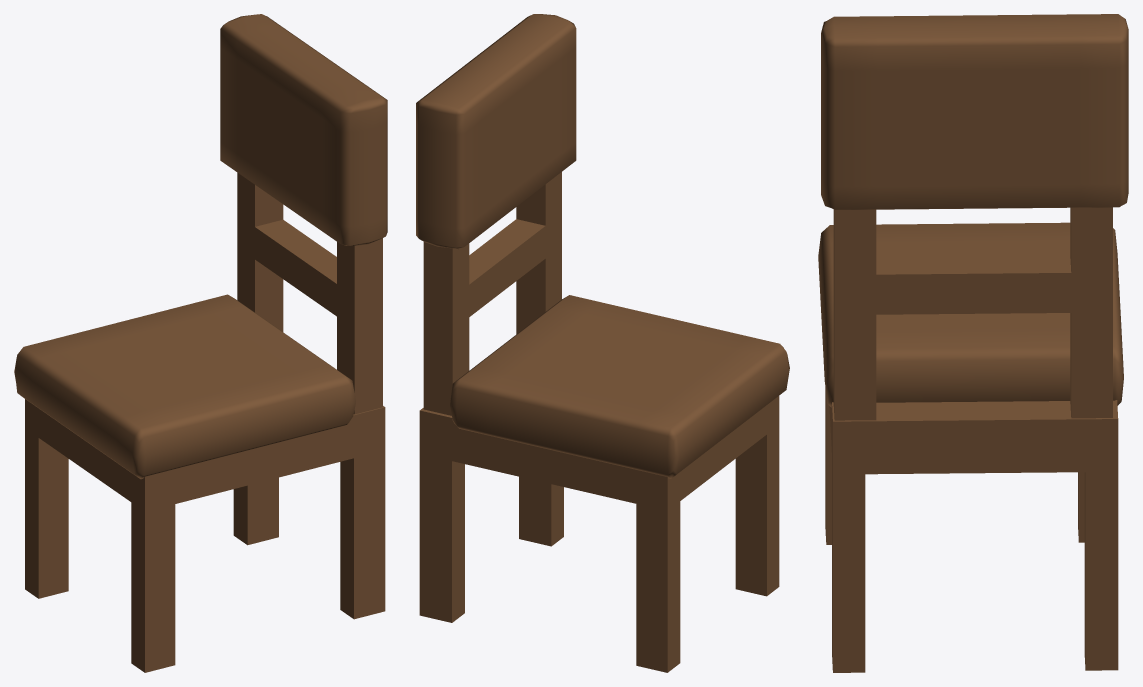
The model's file is chair_1.fbx.
3 views of the same model, side by side, from view 1: azimuth 30°, elevation 25°; view 2: azimuth 150°, elevation 25°; view 3: azimuth 270°, elevation 25° (orthographic). The views are drawn at different scales.
Parts seen in each view (by area): view 1: chair_9; view 2: chair_9; view 3: chair_9.
Boxes of the visible parts, <box> form: chair_9: <box>14,14,387,672</box>; chair_9: <box>416,14,789,672</box>; chair_9: <box>818,14,1128,672</box>.
Size of the model in its own units: 7.67 by 14.42 by 6.39.
